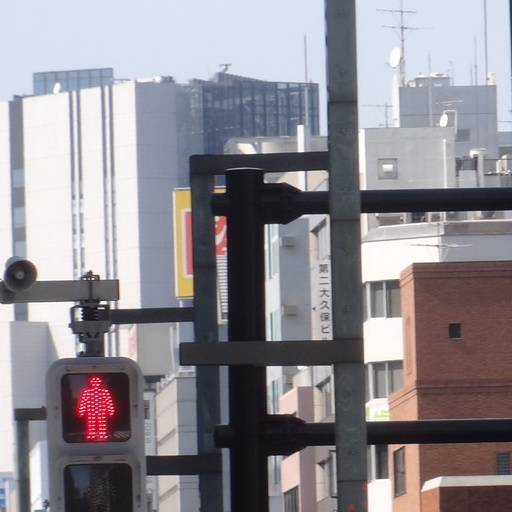Pedestrian_Signal_Red: (45, 350, 147, 508)
